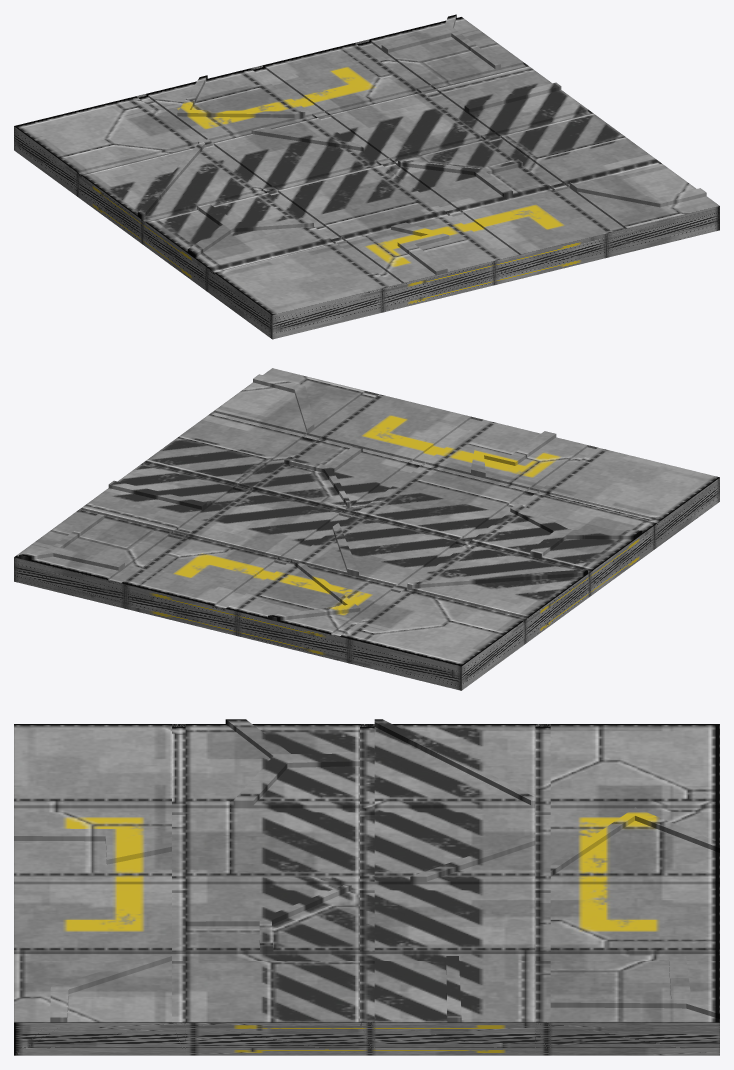
File: main arena tiles.fbx
The picture shows the model from 3 angles, top to bottom: view 1: azimuth 30°, elevation 25°; view 2: azimuth 150°, elevation 25°; view 3: azimuth 270°, elevation 25°; orthographic projection. The views are drawn at different scales.
Visible parts, largest first — view 1: pCube2; view 2: pCube2; view 3: pCube2.
Part boxes in pixels (box(x1,y1,x2,y2)): pCube2: box(14, 14, 719, 339); pCube2: box(14, 368, 719, 690); pCube2: box(14, 719, 719, 1055).
Bounding box in the file's own units: 4.53 × 0.2701 × 4.53.
Materials: 1 (1 with a texture image).
